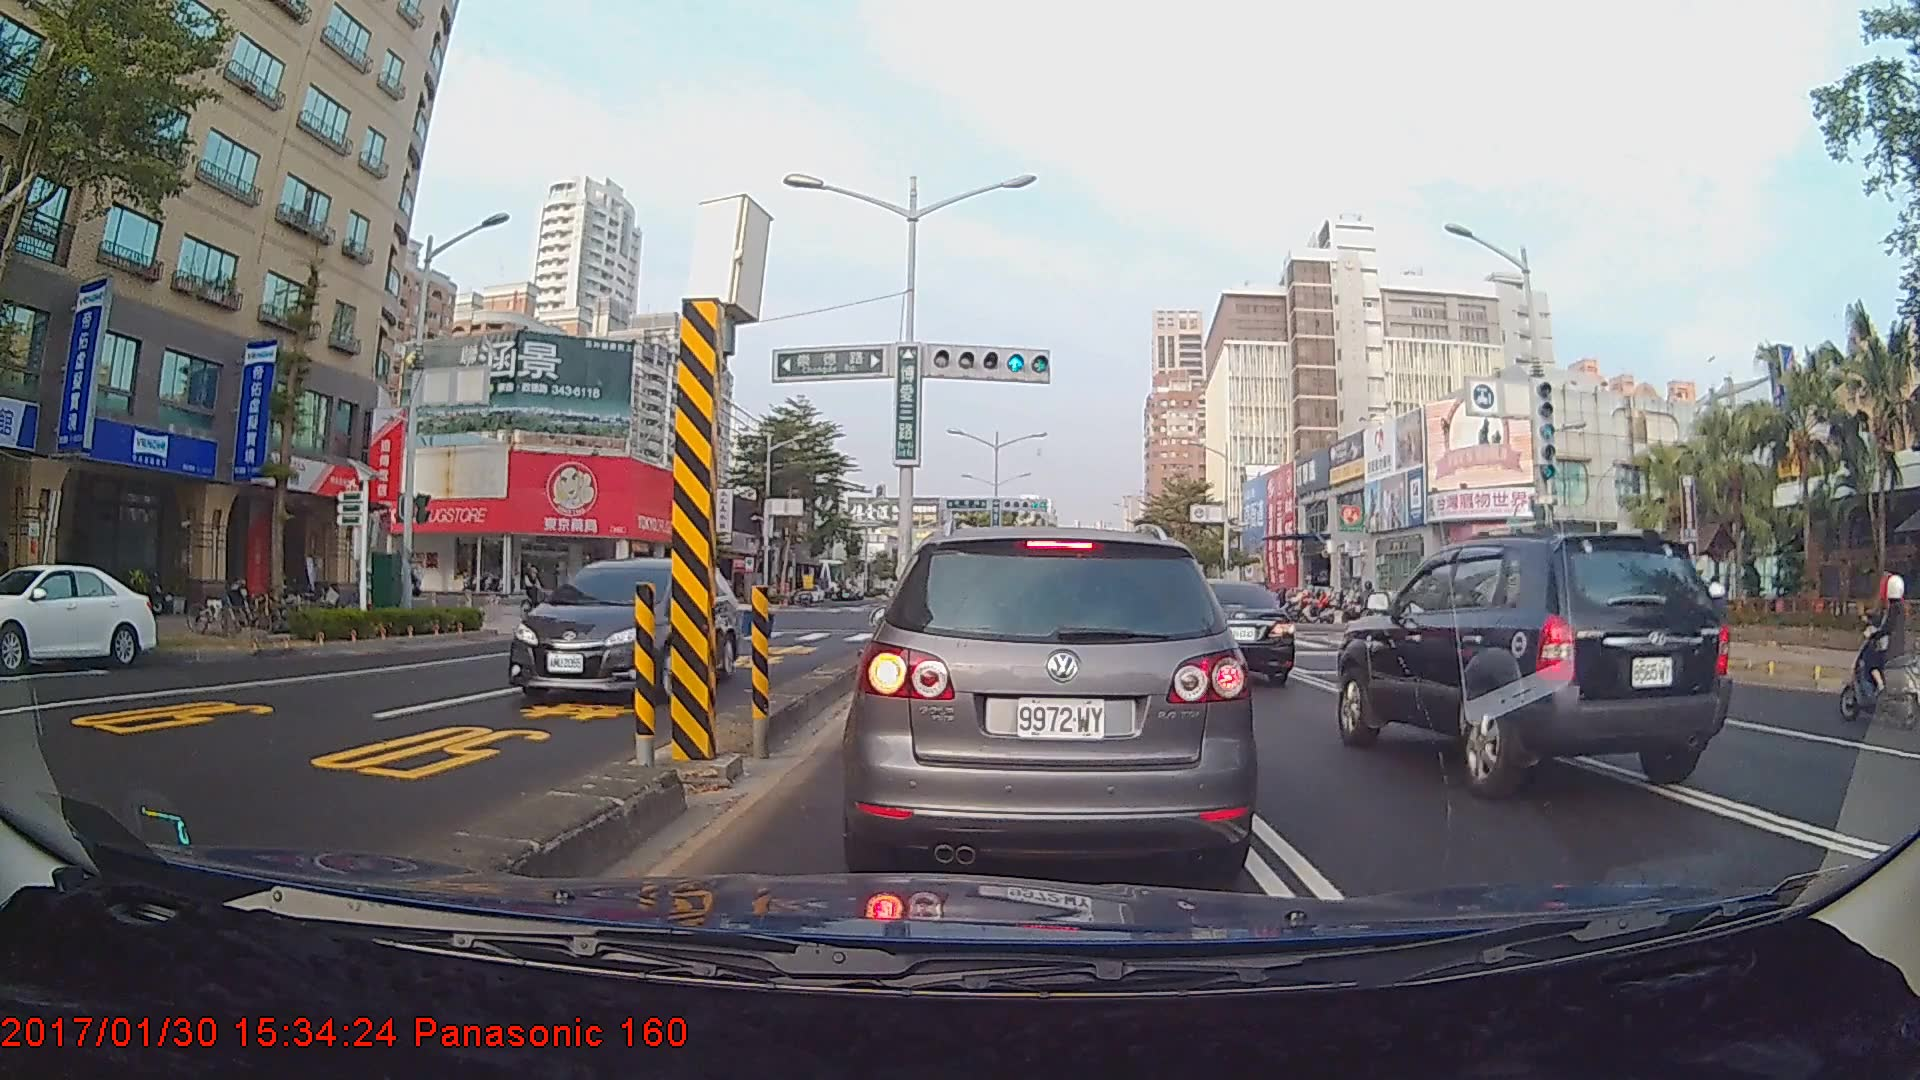rider: (518, 559, 561, 629), (1352, 580, 1386, 644)
vehicle: (854, 523, 1250, 879), (1333, 531, 1736, 800), (504, 558, 742, 701), (1133, 576, 1294, 689), (0, 561, 156, 671)
